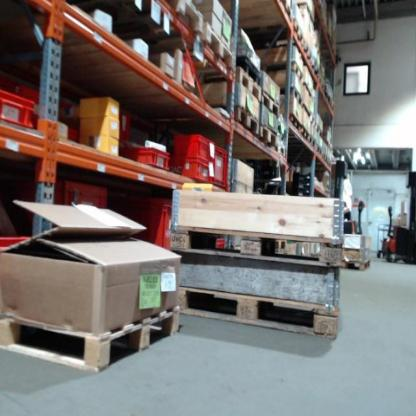pallet: (1, 297, 183, 371), (173, 286, 337, 340), (167, 222, 343, 267), (131, 24, 239, 70), (139, 1, 208, 35), (204, 67, 263, 106), (222, 105, 261, 140), (238, 56, 262, 86), (261, 91, 282, 120), (263, 3, 291, 24), (260, 125, 280, 152), (337, 257, 373, 268), (291, 86, 303, 104), (289, 114, 301, 131), (292, 63, 302, 81)
pallet_truck: (331, 157, 370, 238), (384, 163, 414, 264)
small_load_carrier: (136, 193, 182, 253), (1, 88, 35, 136), (164, 157, 212, 190), (174, 130, 216, 161), (123, 146, 170, 168), (212, 141, 228, 187)
